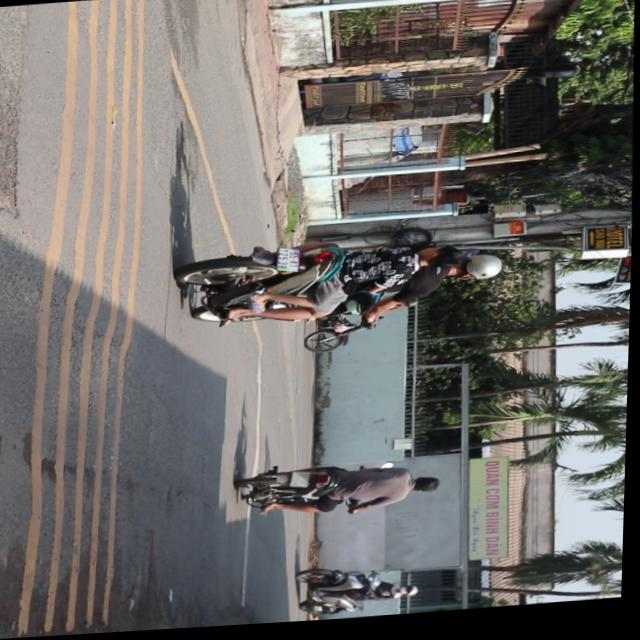helmet: (450, 255, 507, 287)
licenseplate: (176, 228, 510, 337), (239, 456, 447, 522)
motorcyclist: (422, 246, 468, 273), (415, 477, 445, 497)
nohelmet: (280, 249, 302, 274), (292, 473, 313, 490)
